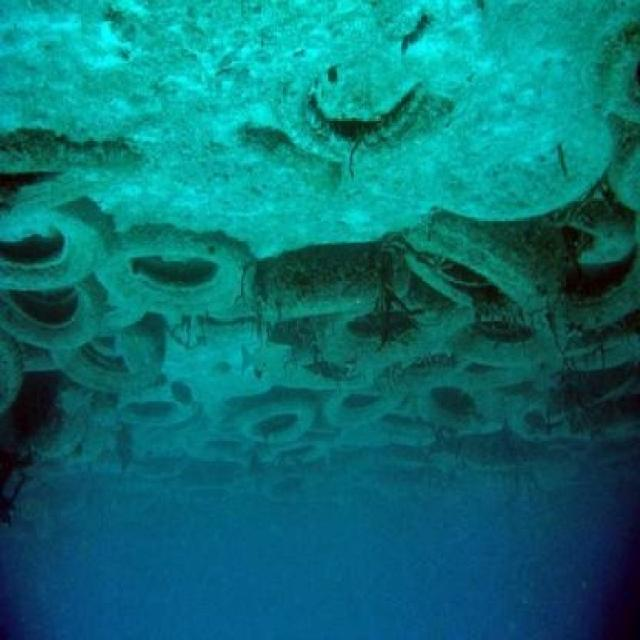tire: (269, 47, 445, 170), (98, 229, 248, 320), (416, 204, 532, 316), (557, 195, 640, 332), (327, 312, 465, 381), (1, 192, 98, 286), (1, 275, 104, 363), (447, 308, 564, 372), (57, 327, 168, 391), (503, 385, 585, 444), (108, 387, 206, 436), (232, 395, 316, 448), (416, 379, 489, 438), (330, 373, 412, 425)
